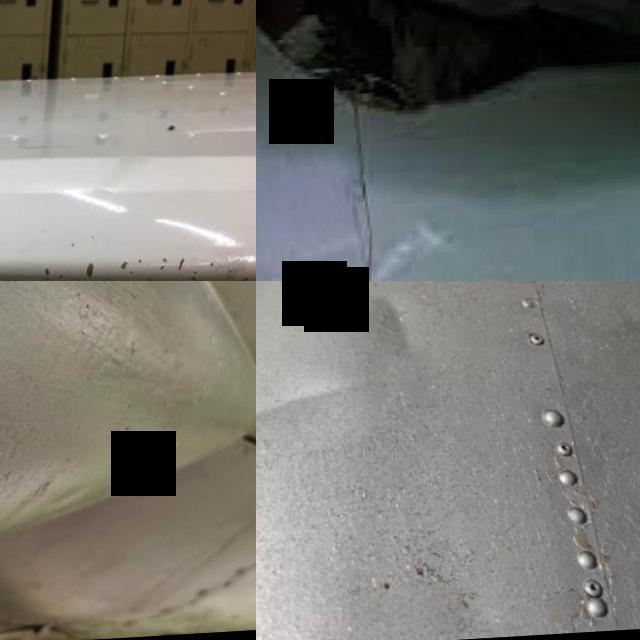Crack: (325, 85, 441, 281), (0, 215, 256, 281)
Dent: (256, 347, 377, 471), (338, 281, 444, 374)
